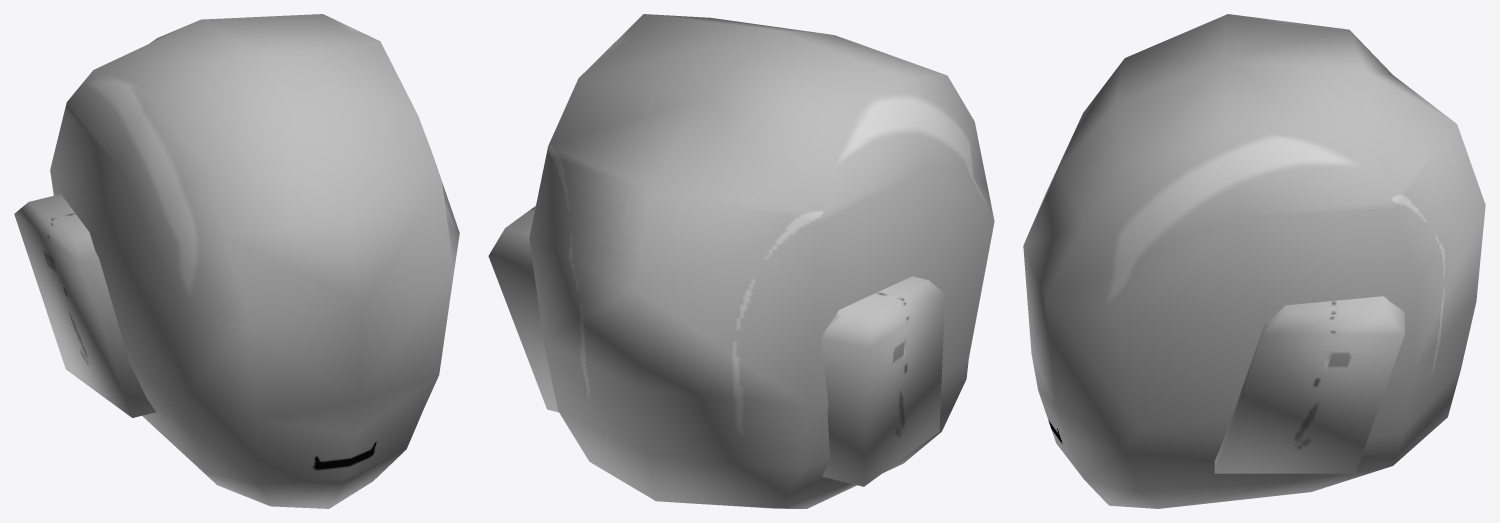
The model's file is Cosmetic11Model.fbx.
3 views of the same model, side by side, from view 1: azimuth 30°, elevation 25°; view 2: azimuth 150°, elevation 25°; view 3: azimuth 270°, elevation 25° (orthographic). The views are drawn at different scales.
Parts seen in each view (by area): view 1: Cosmetic11Model; view 2: Cosmetic11Model; view 3: Cosmetic11Model.
Part boxes in pixels (left/top/right/bottom): Cosmetic11Model: left=14, top=14, right=459, bottom=508; Cosmetic11Model: left=488, top=14, right=994, bottom=508; Cosmetic11Model: left=1023, top=14, right=1485, bottom=508.
Bounding box in the file's own units: 23.01 × 26.53 × 25.93.
